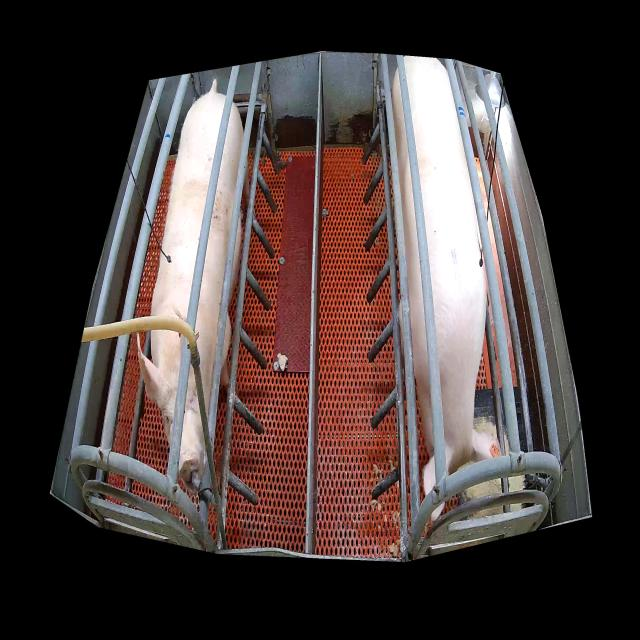pig: (392, 56, 501, 496), (137, 91, 250, 489)
